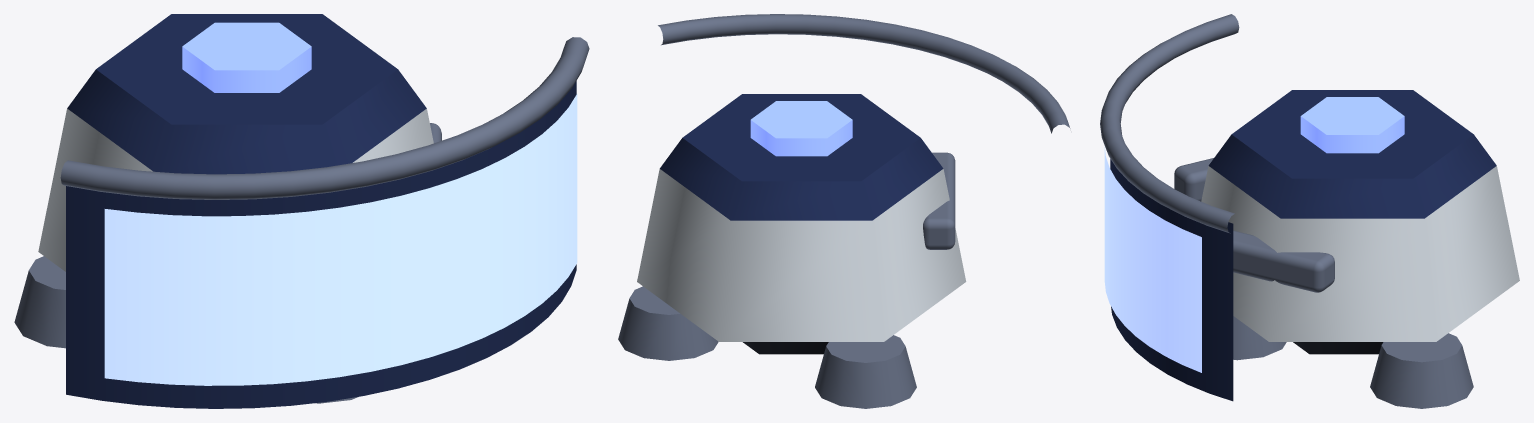
The model's file is bulwark.glb.
3 views of the same model, side by side, from view 1: azimuth 30°, elevation 25°; view 2: azimuth 150°, elevation 25°; view 3: azimuth 270°, elevation 25° (orthographic). The views are drawn at different scales.
Visible parts, largest first — view 1: root:glow2, root:plate, root:alloy, root:glow, root:hull; view 2: root:hull, root:plate, root:alloy, root:glow, root:dark; view 3: root:hull, root:plate, root:alloy, root:glow2, root:glow, root:dark.
Part boxes in pixels (bbox=[...]): root:glow2: bbox=[104, 94, 577, 385]; root:plate: bbox=[66, 14, 576, 408]; root:alloy: bbox=[14, 37, 589, 403]; root:glow: bbox=[182, 22, 311, 92]; root:hull: bbox=[38, 108, 433, 271]; root:hull: bbox=[637, 169, 966, 341]; root:plate: bbox=[660, 94, 943, 220]; root:alloy: bbox=[618, 14, 1070, 408]; root:glow: bbox=[750, 101, 923, 156]; root:dark: bbox=[743, 342, 828, 354]; root:hull: bbox=[1201, 166, 1519, 341]; root:plate: bbox=[1110, 90, 1496, 401]; root:alloy: bbox=[1100, 14, 1473, 408]; root:glow2: bbox=[1104, 147, 1201, 372]; root:glow: bbox=[1300, 97, 1404, 153]; root:dark: bbox=[1293, 342, 1383, 354].
Size of the model in its own units: 0.8486 by 0.4381 by 0.728.
